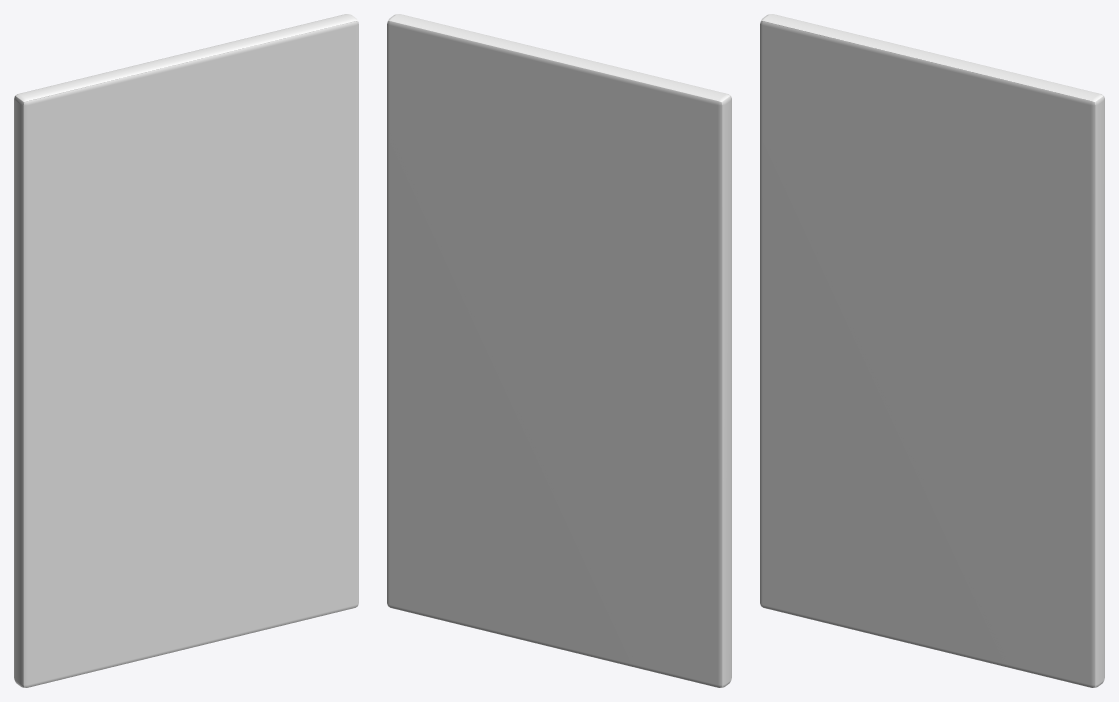
The model's file is EaselCanvas.fbx.
3 renders of one model, left to right at view 1: azimuth 30°, elevation 25°; view 2: azimuth 150°, elevation 25°; view 3: azimuth 330°, elevation 25°, orthographic.
Parts seen in each view (by area): view 1: EaselCanvas; view 2: EaselCanvas; view 3: EaselCanvas.
Part boxes in pixels (x1,y1,x2,y2): EaselCanvas: [14, 14, 358, 687]; EaselCanvas: [387, 14, 731, 687]; EaselCanvas: [760, 14, 1104, 687].
Size of the model in its own units: 1.71 by 2.85 by 0.1.
